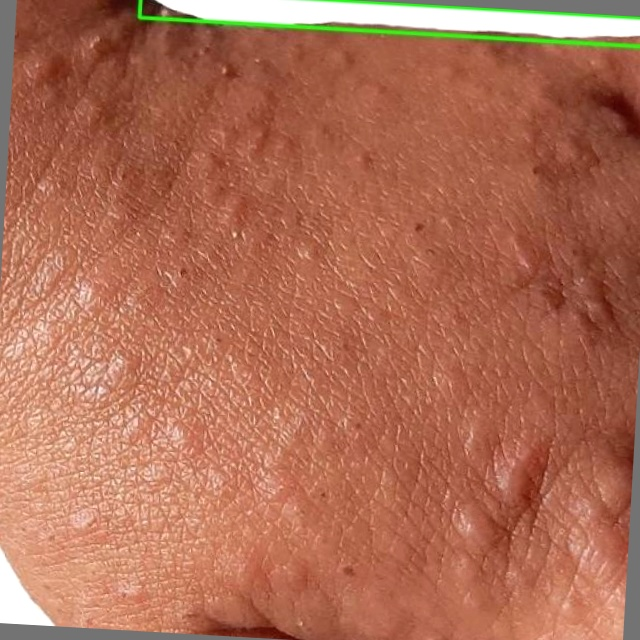Contact Dermatitis: (139, 0, 639, 46)
